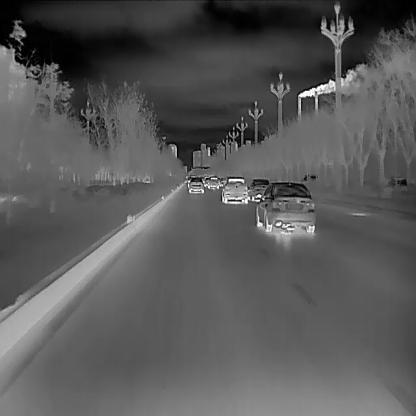car: (254, 180, 314, 233), (219, 176, 248, 203), (246, 178, 272, 200), (188, 178, 204, 192), (206, 176, 218, 188)
